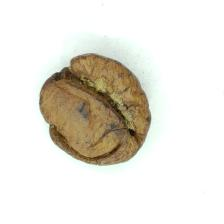NG: (41, 64, 136, 163)
